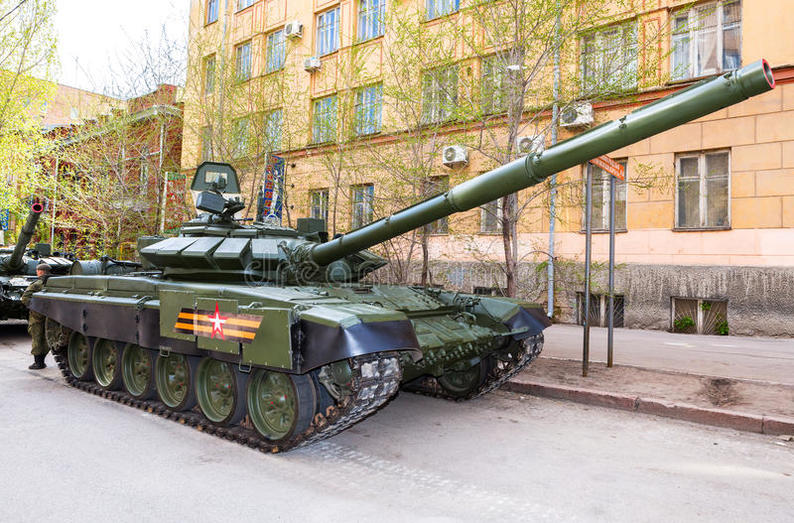t72: (61, 157, 567, 452)
